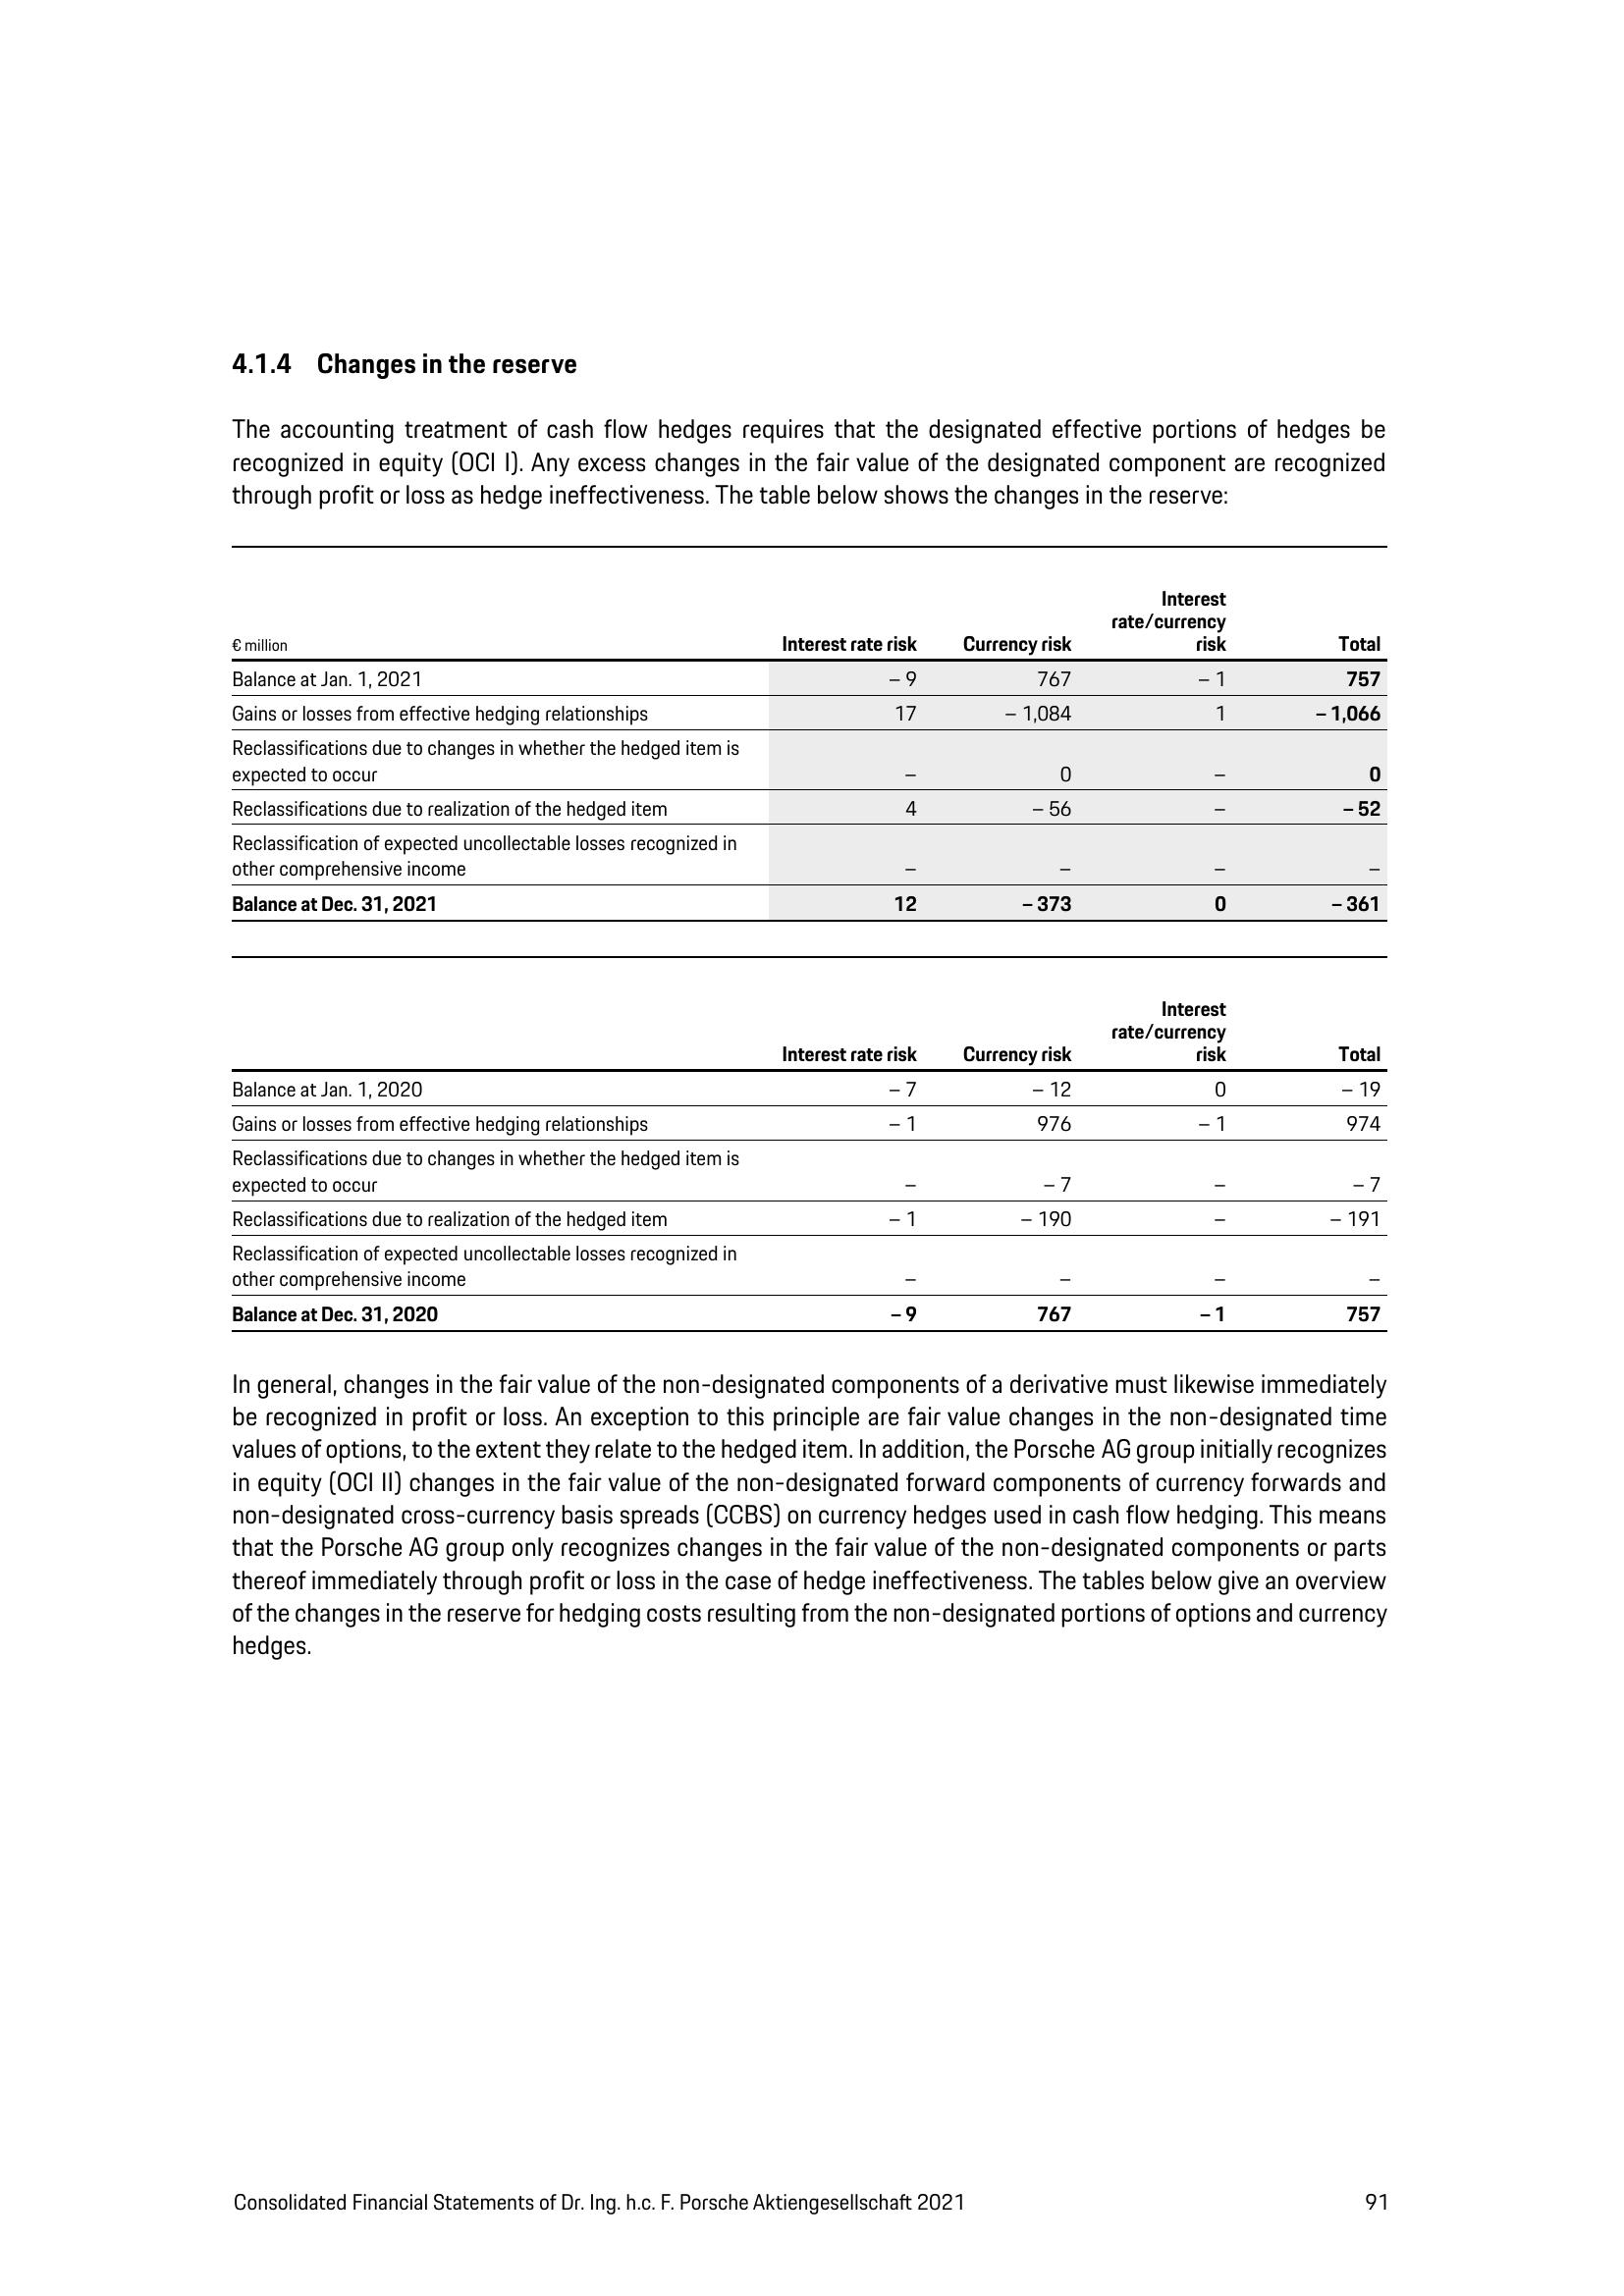Footer: (0, 2131, 1624, 2296)
Header: (0, 0, 1624, 214)
Table: (207, 538, 1408, 922), (207, 980, 1408, 1339)
